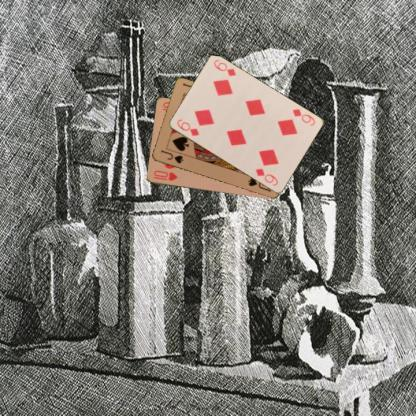10h: (150, 168, 179, 182)
6d: (174, 116, 200, 138), (290, 106, 316, 127)
Js: (158, 147, 184, 165)
